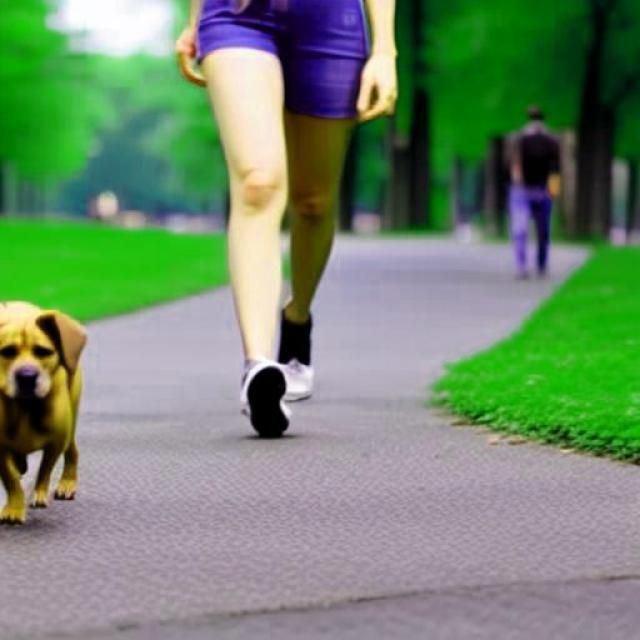Unleashed_Dog: (0, 0, 400, 524)
